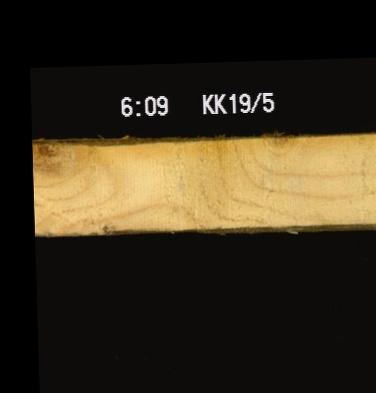edge_knot: (261, 132, 297, 157), (31, 139, 62, 162)
